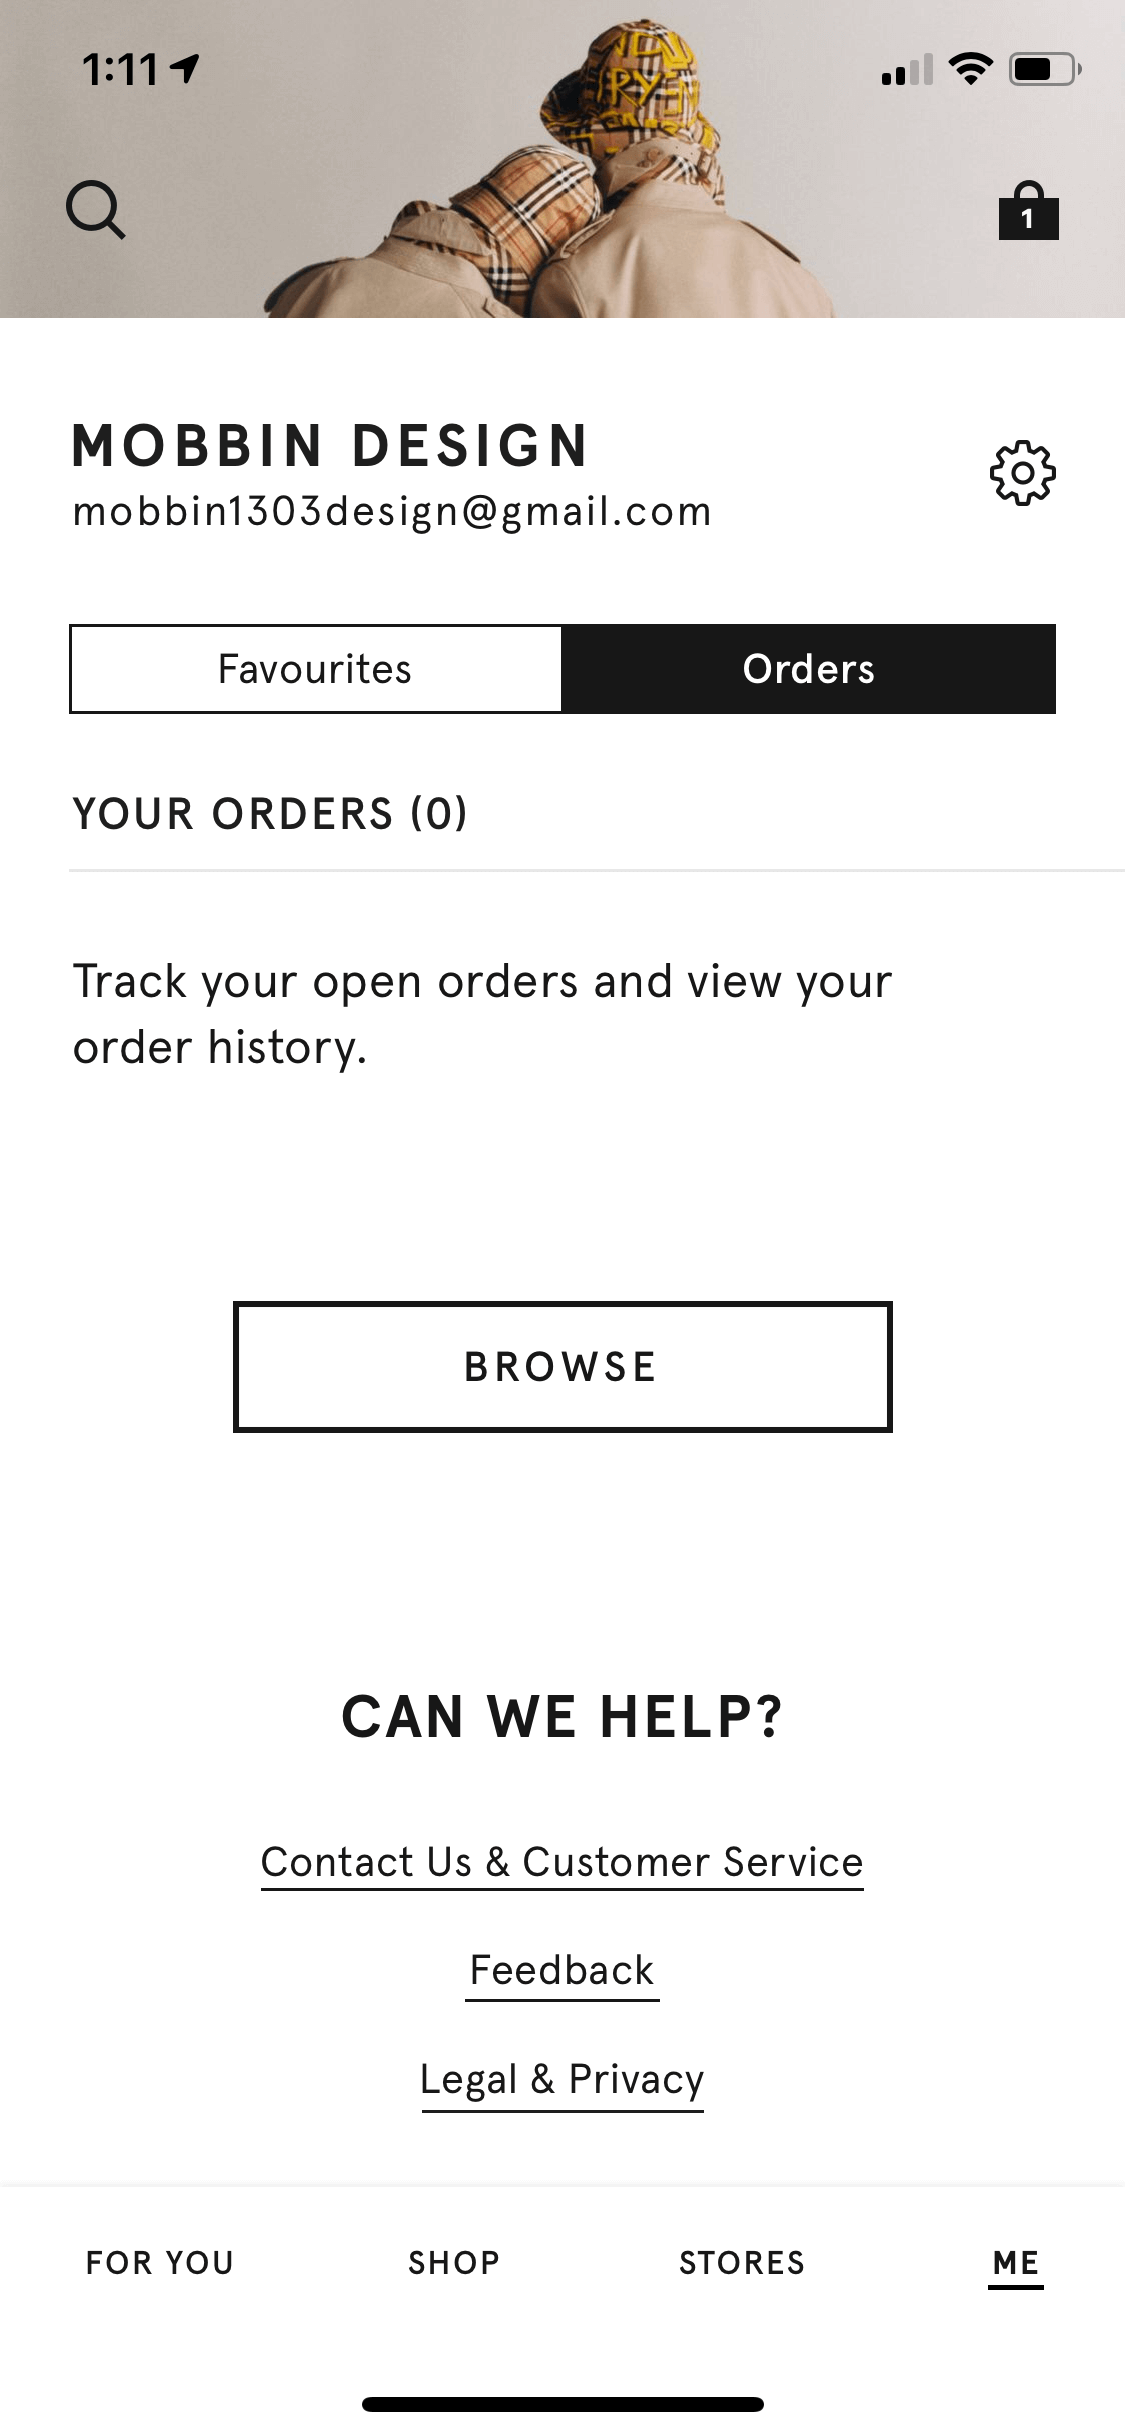Buttons: (207, 1269, 918, 1457), (932, 134, 1085, 270), (26, 138, 165, 269), (976, 409, 1078, 519)
